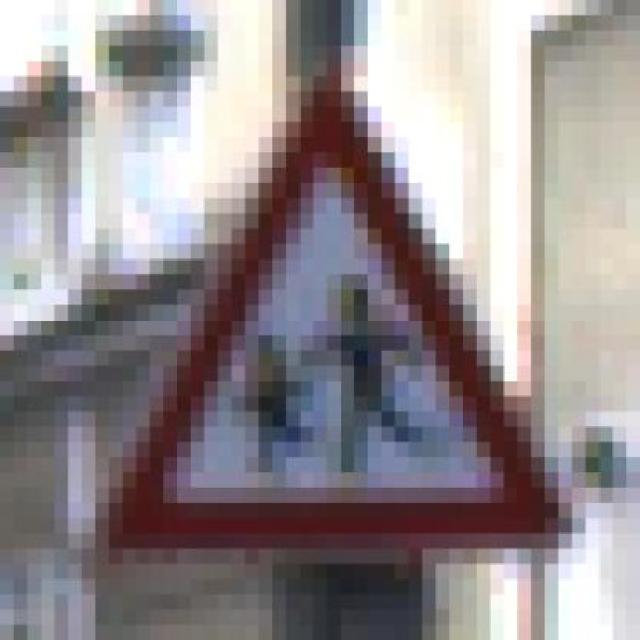Beware of children: (95, 61, 572, 564)
